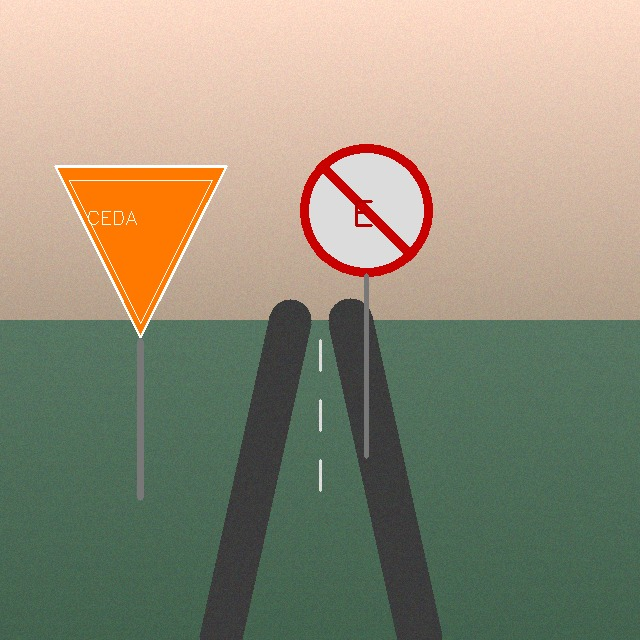ceda_el_paso: (51, 162, 230, 341)
no_estacionar: (302, 146, 431, 275)
